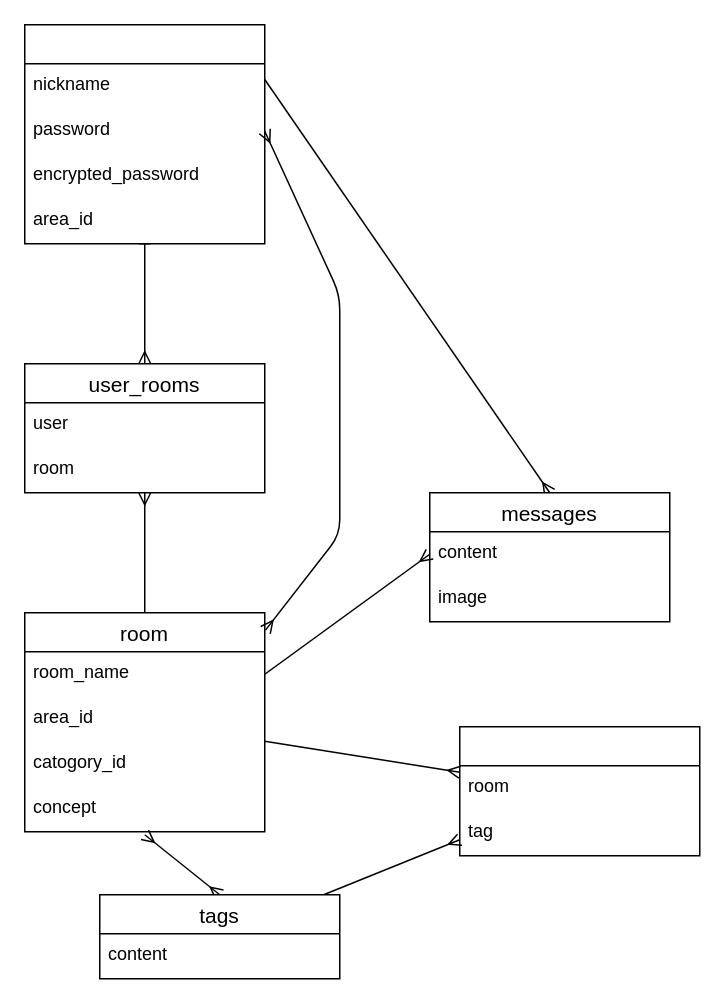
The diagram is 725 pixels wide and 1004 high, and some of its shapes have lost their labels. The shapes that lost their labels are listed below. From the top down, each one's box as (x1, y1, x2, y2) in pixels, then its label:
(23, 23, 265, 244): users
(458, 725, 700, 856): room_tags
